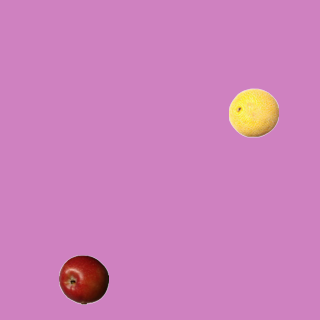Apple Braeburn: (58, 254, 108, 304)
Cantaloupe 1: (228, 87, 278, 137)
